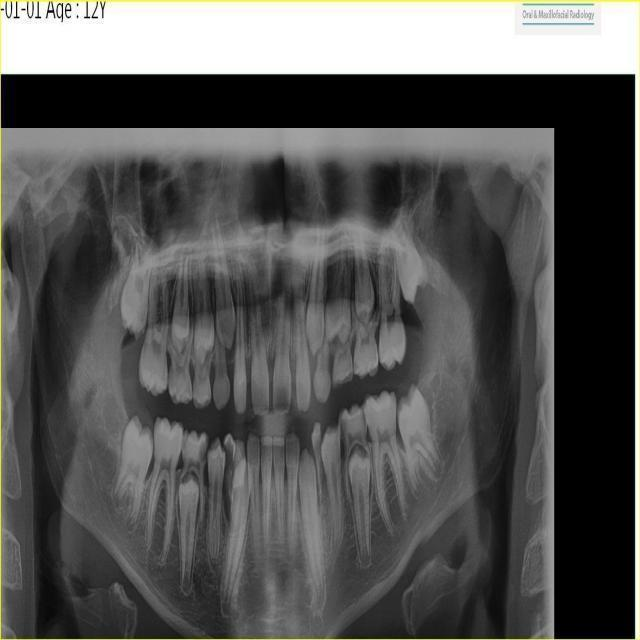Caries: (198, 438, 209, 464), (339, 417, 350, 441), (362, 409, 367, 427), (354, 358, 359, 373)
